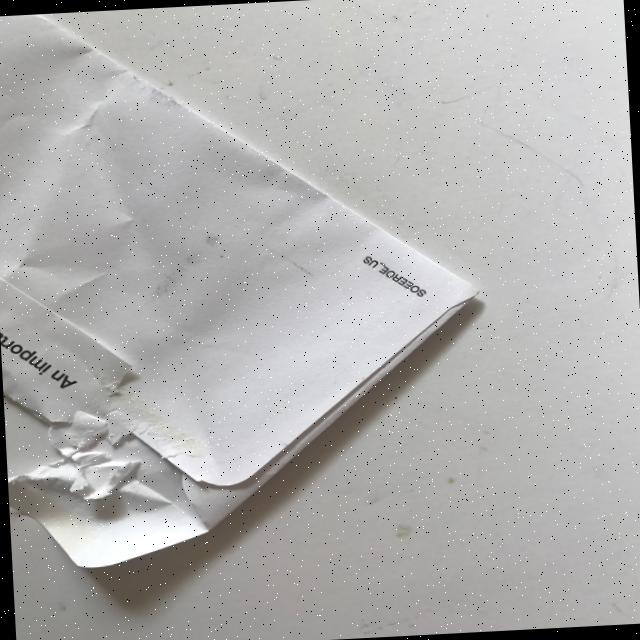paper: (0, 0, 494, 572)
